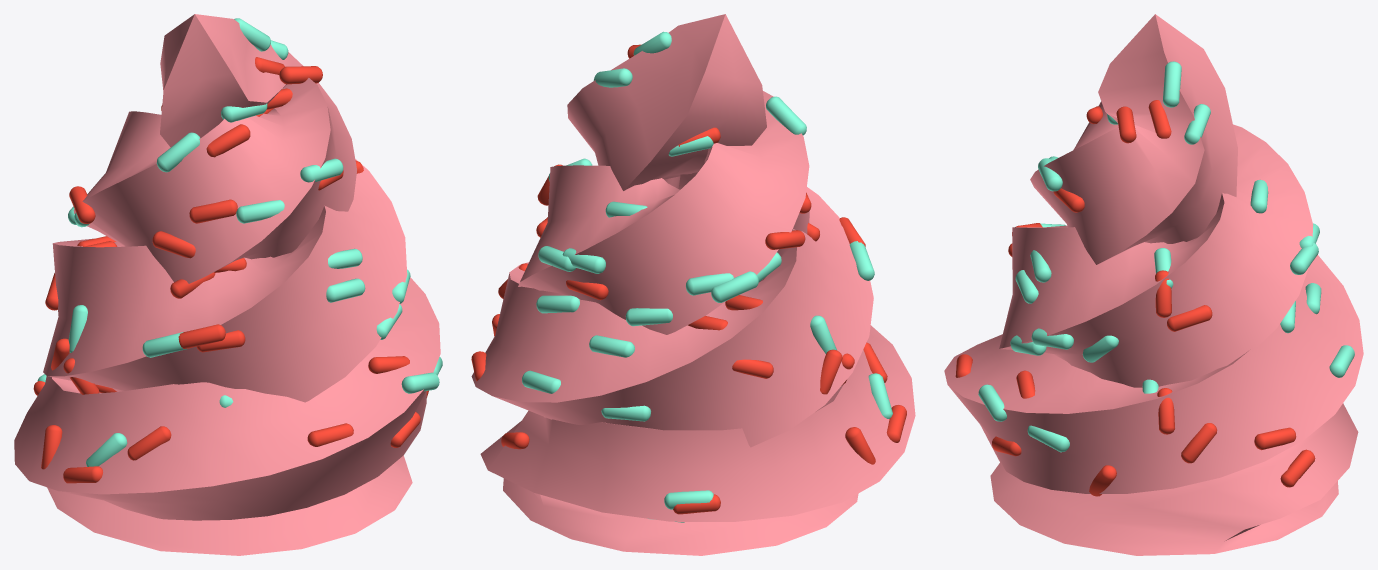
File: Ice Cream Hat M.fbx
The picture shows the model from 3 angles, left to right: view 1: azimuth 30°, elevation 25°; view 2: azimuth 150°, elevation 25°; view 3: azimuth 270°, elevation 25°; orthographic projection. The views are drawn at different scales.
Parts seen in each view (by area): view 1: Ice Cream Hat M; view 2: Ice Cream Hat M; view 3: Ice Cream Hat M.
Boxes of the visible parts, left/top/right/bottom form: Ice Cream Hat M: left=14, top=14, right=442, bottom=555; Ice Cream Hat M: left=471, top=14, right=915, bottom=555; Ice Cream Hat M: left=944, top=14, right=1363, bottom=555.
Size of the model in its own units: 0.4999 by 0.5948 by 0.4981.
